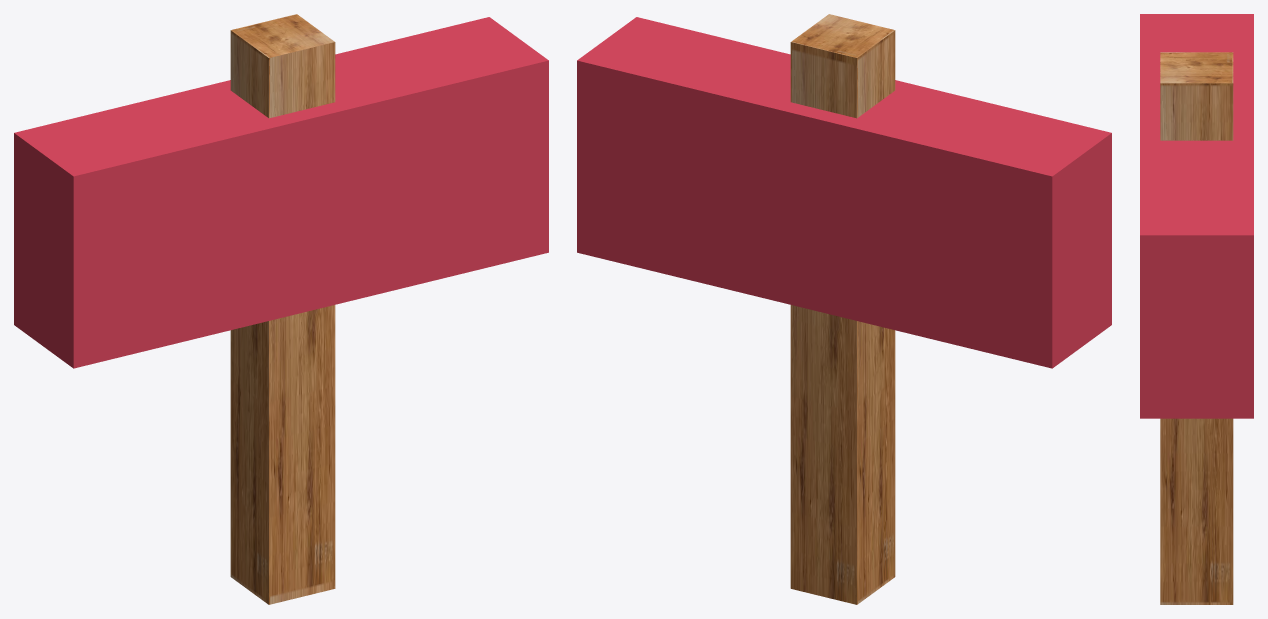
Rendered from redTeamMark.fbx.
The picture shows the model from 3 angles, left to right: view 1: azimuth 30°, elevation 25°; view 2: azimuth 150°, elevation 25°; view 3: azimuth 270°, elevation 25°; orthographic projection. The views are drawn at different scales.
Parts seen in each view (by area): view 1: 立方體, Cube; view 2: 立方體, Cube; view 3: 立方體, Cube.
Boxes of the visible parts, x1,y1,x2,y2 form: 立方體: (14,17,548,368); Cube: (230,14,335,604); 立方體: (577,17,1111,368); Cube: (790,14,895,604); 立方體: (1140,14,1253,418); Cube: (1160,52,1233,604).
Bounding box in the file's own units: 616 × 678 × 134.
2 materials, 1 textured.
